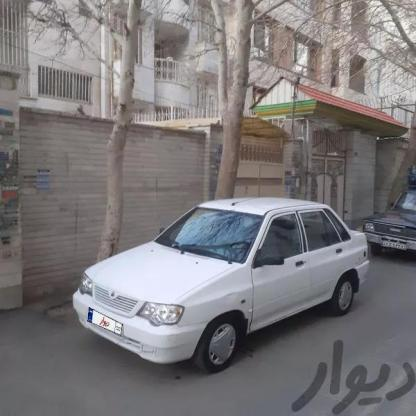Car: (78, 199, 375, 372), (361, 170, 416, 265)
